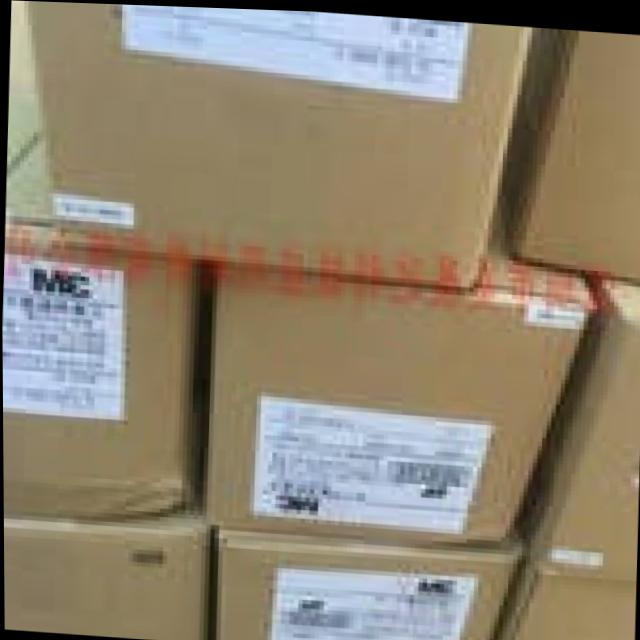box: (25, 1, 537, 284), (204, 221, 595, 544), (3, 129, 212, 514), (514, 271, 640, 576), (496, 24, 640, 277), (210, 524, 522, 640), (3, 503, 208, 638), (496, 545, 635, 640), (10, 0, 39, 173)
